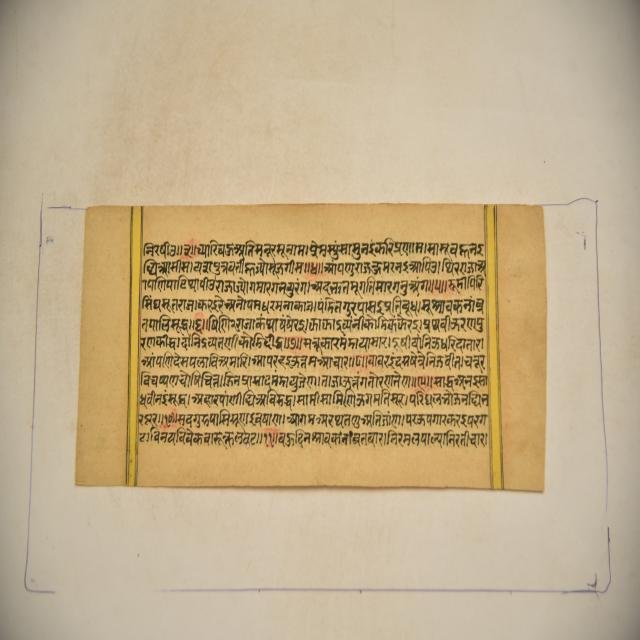text_paragraph: (69, 203, 542, 495)
